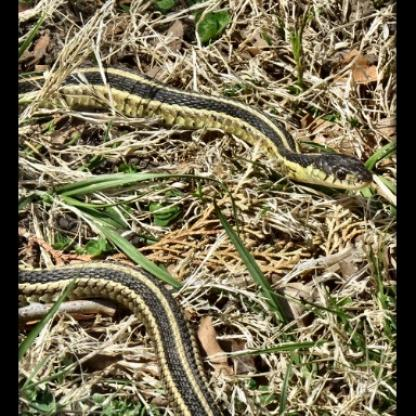Snake: (69, 64, 374, 200)
